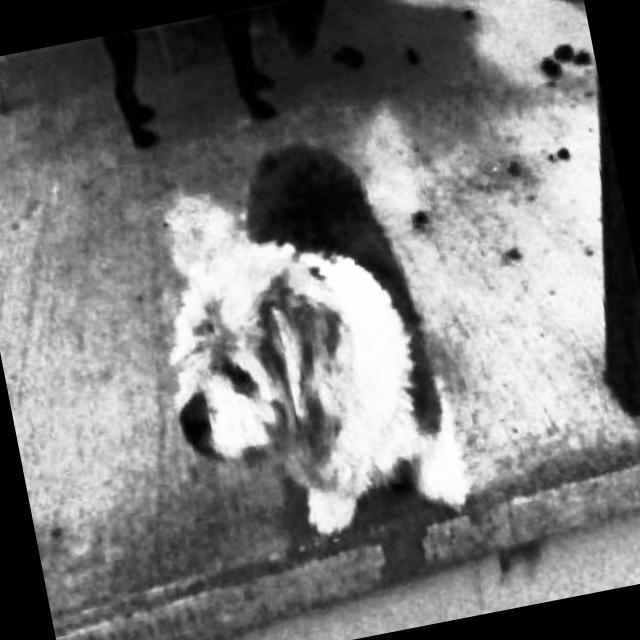Dog: (118, 103, 477, 580)
